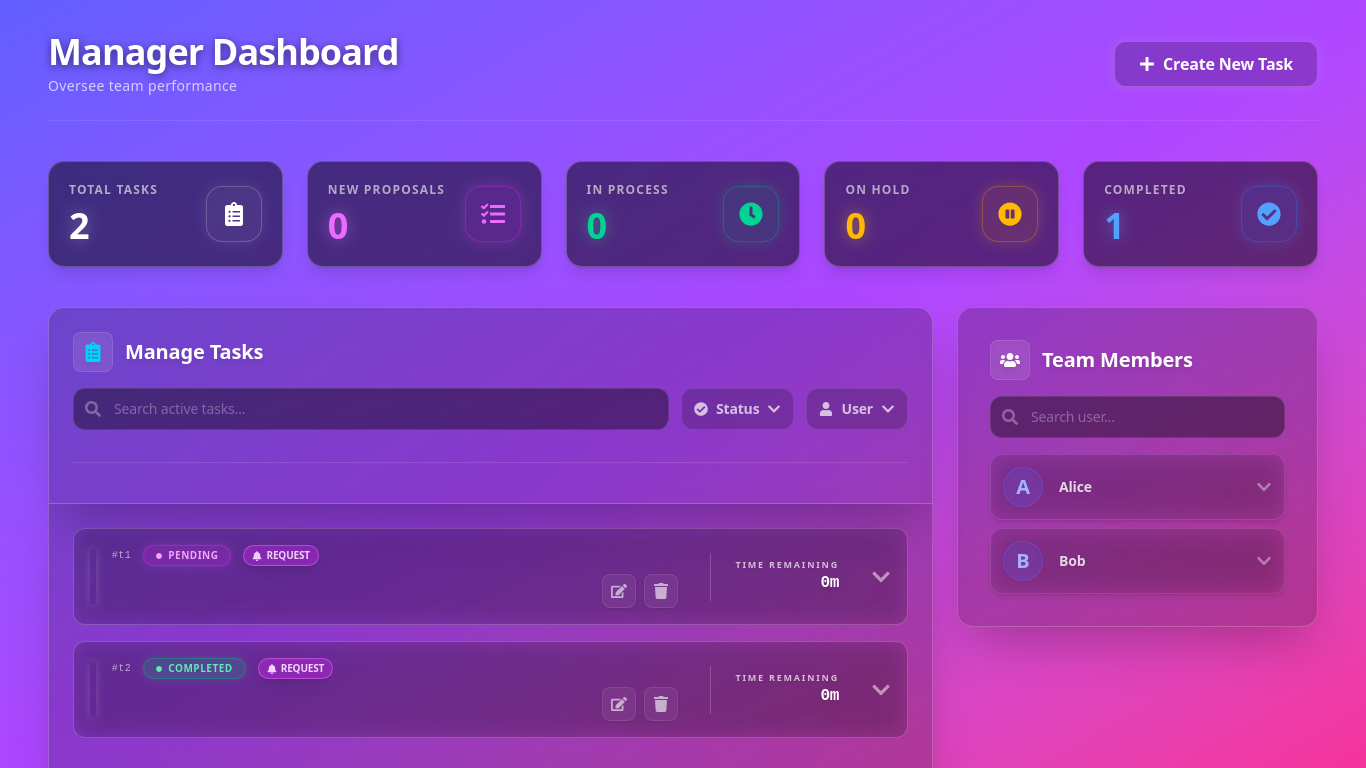
it: AdminDashboard Component (TFT-10) › opens the Create Task modal when button is clicked
Click the button "Create New Task".
click(1216, 64)  # box 1114,41 -> 1318,87
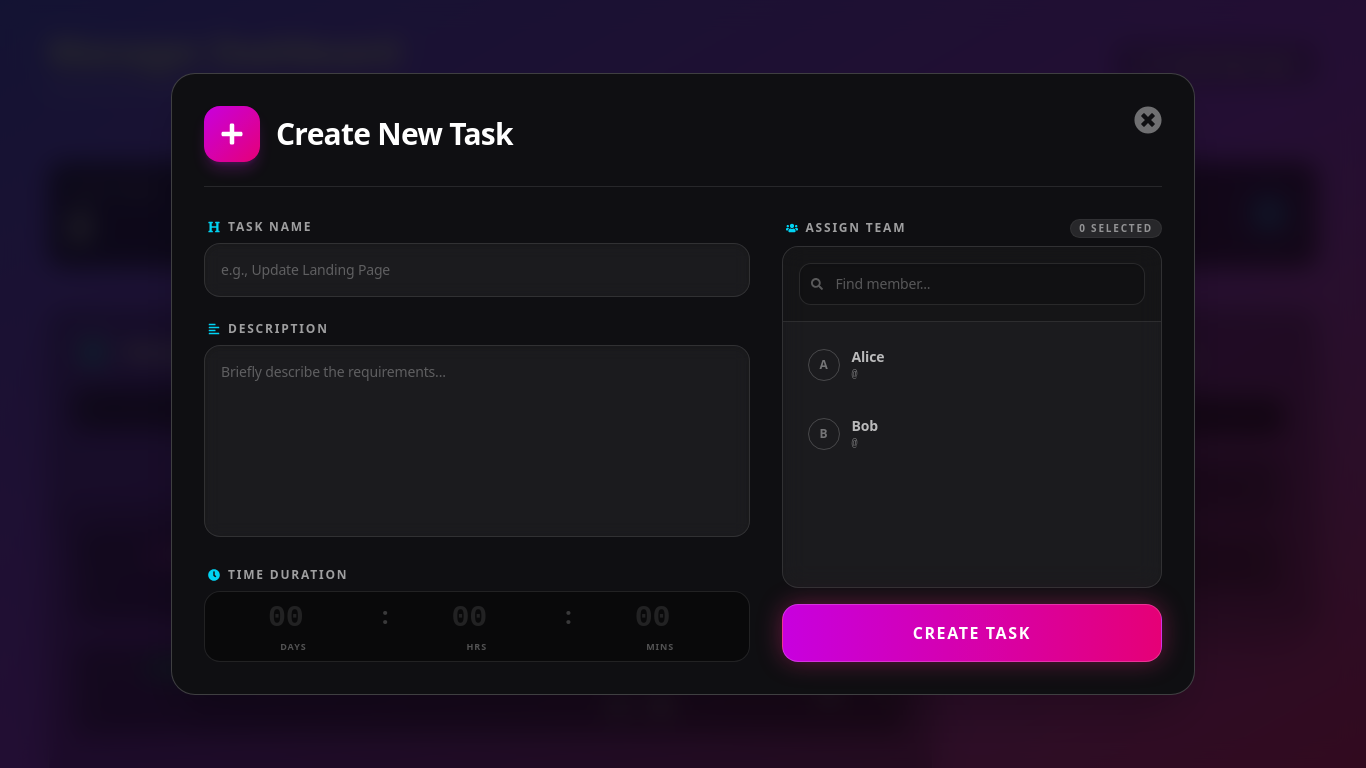
Expected: the heading "Create New Task" is shown, 204,106 -> 1162,187
